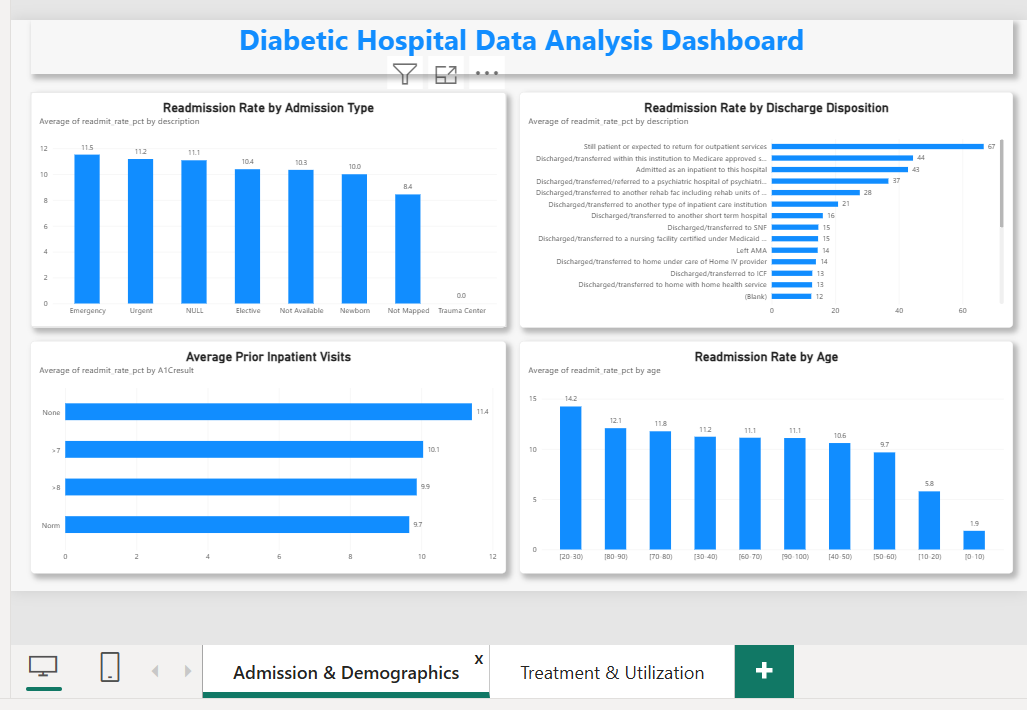

The page's visual inventory and layout, read from the dashboard file:
{"tool":"powerbi","page":{"name":"Admission & Demographics","canvas":[1920,1080],"ordinal":0},"visuals":[{"type":"columnChart","title":"Readmission Rate by Admission Type","fields":{"Category":["hospital_diabetes readmit_by_admission_type.description"],"Y":["Avg(hospital_diabetes readmit_by_admission_type.readmit_rate_pct)"]},"box":[36.9,136.1,898.6,445],"z":0},{"type":"barChart","title":"Readmission Rate by Discharge Disposition","fields":{"Category":["hospital_diabetes readmit_by_discharge_disposition.description"],"Y":["Avg(hospital_diabetes readmit_by_discharge_disposition.readmit_rate_pct)"]},"box":[961,136.1,932.6,445],"z":1000},{"type":"clusteredColumnChart","title":"Readmission Rate by Age","fields":{"Category":["hospital_diabetes readmit_by_age.age"],"Y":["Avg(hospital_diabetes readmit_by_age.readmit_rate_pct)"]},"box":[961,606.6,932.6,439.4],"z":2000},{"type":"clusteredBarChart","title":"Average Prior Inpatient Visits","fields":{"Category":["hospital_diabetes readmit_by_a1c.A1Cresult"],"Y":["Avg(hospital_diabetes readmit_by_a1c.readmit_rate_pct)"]},"box":[36.9,606.6,898.6,439.4],"z":3000},{"type":"textbox","box":[36.9,0,1856.7,102],"z":3001}]}

Visuals, with their boxes on the page's 1920x1080 design canvas (x1, y1, x2, y2). These are canvas units, not pixel positions in the 1027x710 screenshot, which may show the page scaled, cropped or inside an application window:
"Readmission Rate by Admission Type" columnChart: {"left": 37, "top": 136, "right": 936, "bottom": 581}
"Readmission Rate by Discharge Disposition" barChart: {"left": 961, "top": 136, "right": 1894, "bottom": 581}
"Readmission Rate by Age" clusteredColumnChart: {"left": 961, "top": 607, "right": 1894, "bottom": 1046}
"Average Prior Inpatient Visits" clusteredBarChart: {"left": 37, "top": 607, "right": 936, "bottom": 1046}
textbox: {"left": 37, "top": 0, "right": 1894, "bottom": 102}
